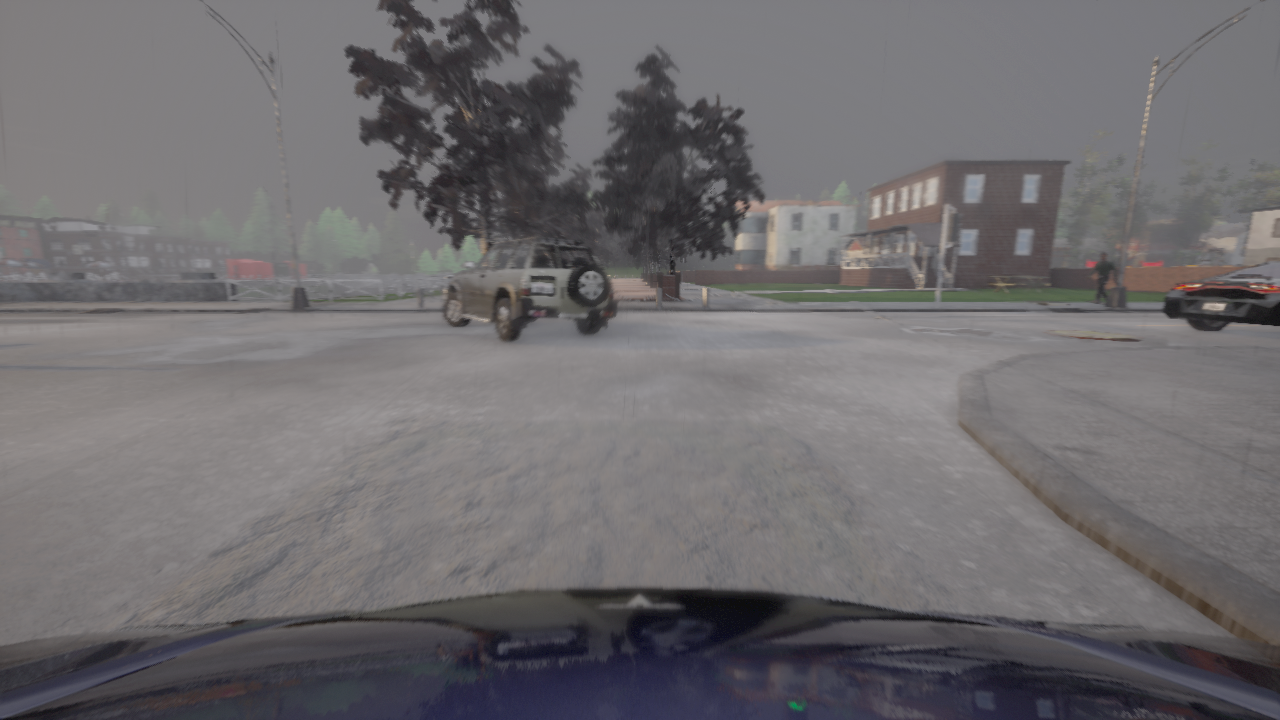cyclist: (0, 588, 1279, 719), (443, 237, 616, 341), (1164, 262, 1279, 331)
pedestrian: (1087, 253, 1117, 304)
